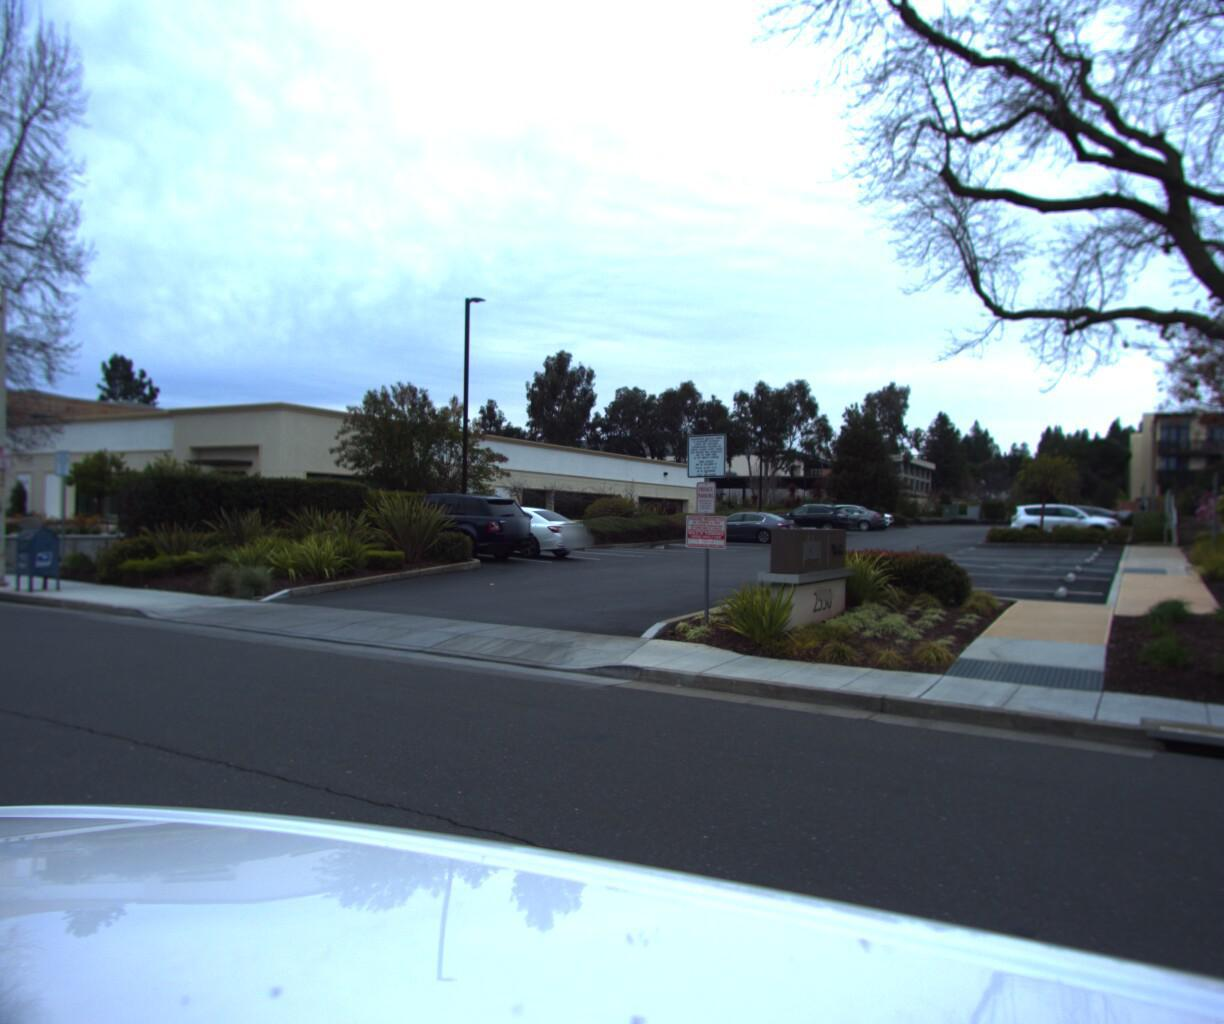car: (358, 491, 543, 561)
